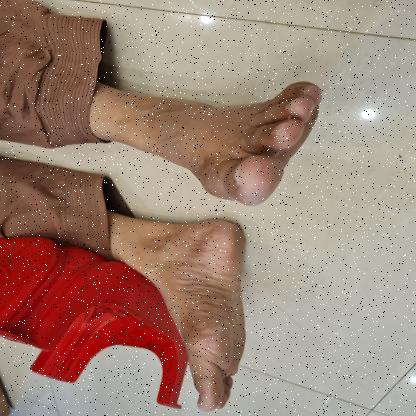leg: (93, 64, 333, 210), (110, 209, 260, 416)
